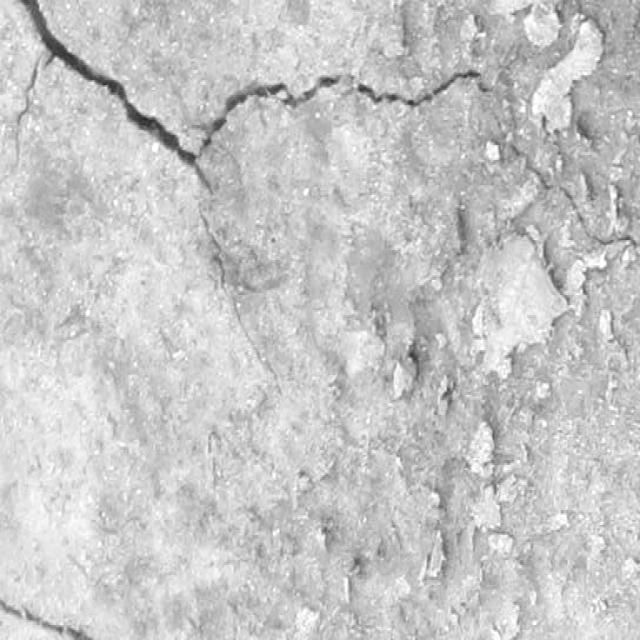SurfaceCrack: (1, 2, 635, 635)
